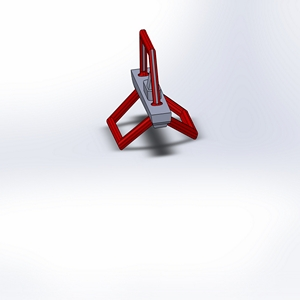submarine: (89, 25, 218, 170)
